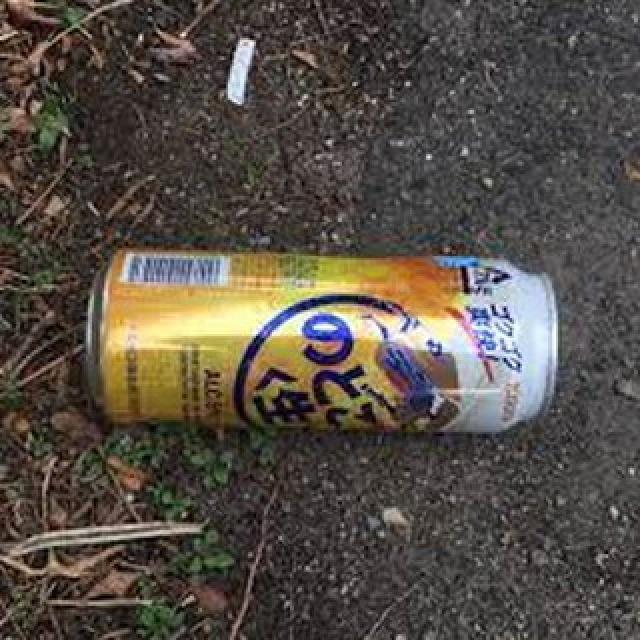can: (84, 242, 558, 435)
